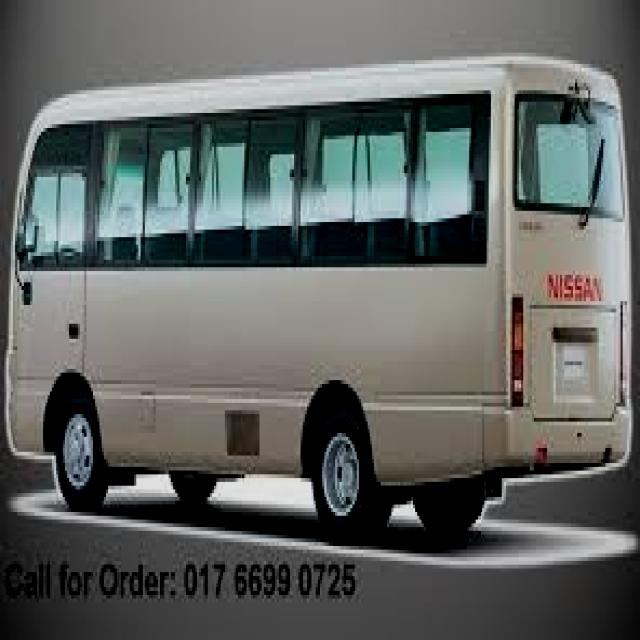bus: (1, 44, 638, 555)
